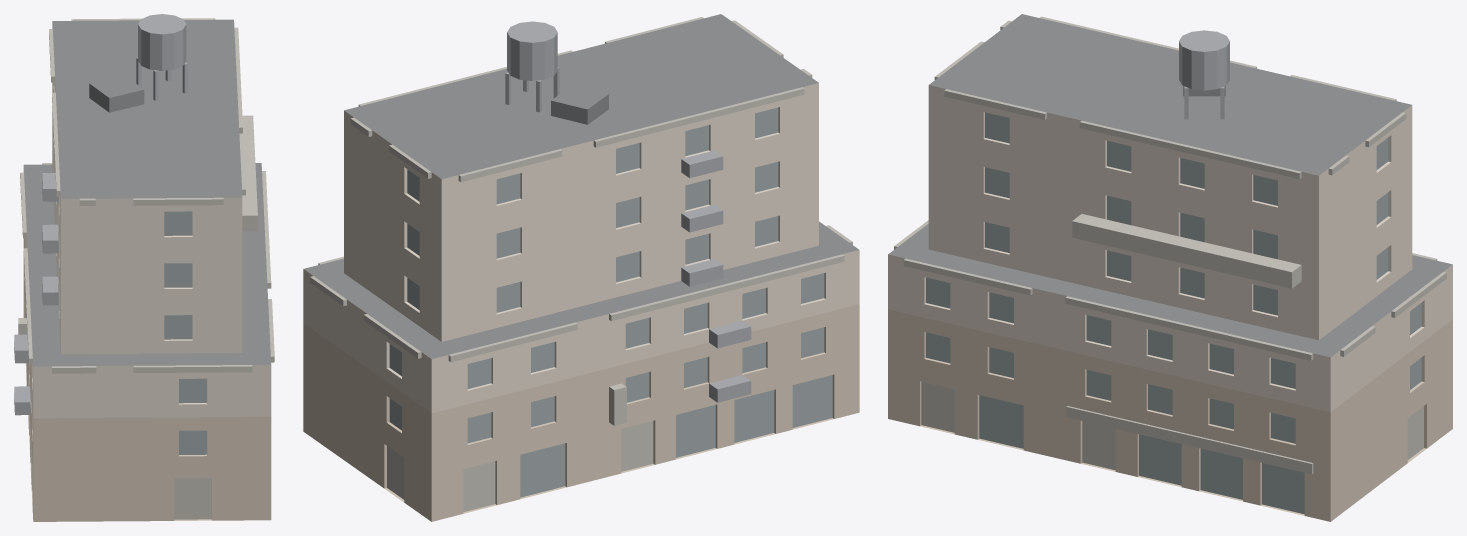
File: doitt-460555__lod_0.glb
3 renders of one model, left to right at view 1: azimuth 30°, elevation 25°; view 2: azimuth 150°, elevation 25°; view 3: azimuth 270°, elevation 25°, orthographic. The views are drawn at different scales.
Size of the model in its own units: 27.98 by 26.52 by 34.06.
